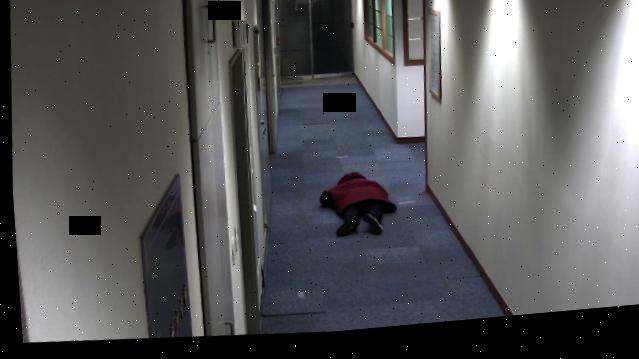fall: (311, 173, 401, 248)
